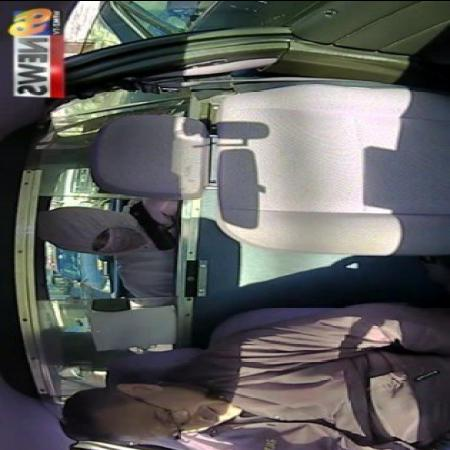Pistol: (126, 191, 180, 248)
